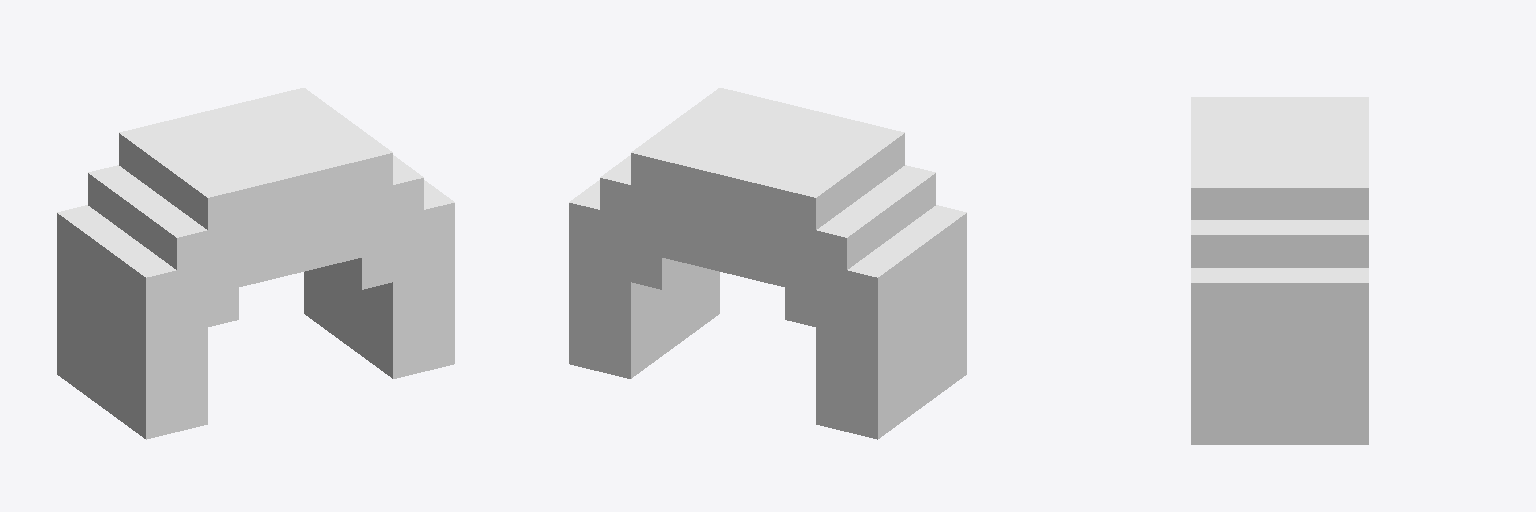
File: Bauklotz_4.obj
The picture shows the model from 3 angles: view 1: azimuth 30°, elevation 25°; view 2: azimuth 150°, elevation 25°; view 3: azimuth 270°, elevation 25°; orthographic projection.
Visible parts, largest first — view 1: object 1; view 2: object 1; view 3: object 1.
Part boxes in pixels (bbox=[...]): object 1: bbox=[57, 88, 454, 439]; object 1: bbox=[569, 88, 966, 439]; object 1: bbox=[1191, 97, 1368, 444].
Size of the model in its own units: 1 by 0.7 by 0.5.